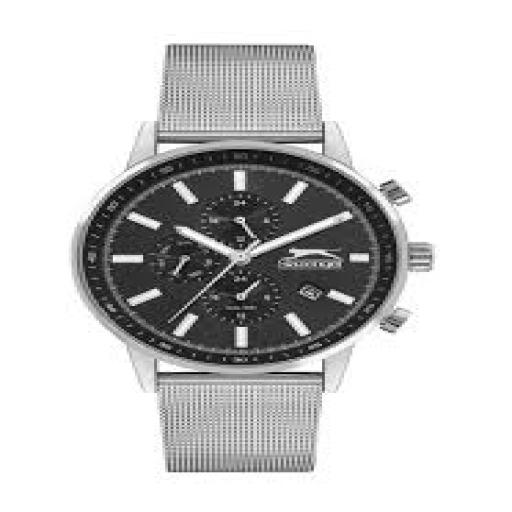KolSaati: (75, 40, 441, 484)
